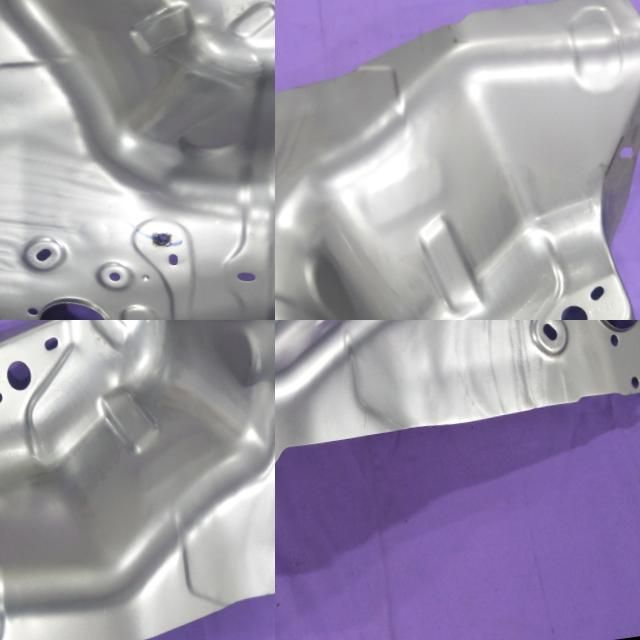Healthy: (275, 0, 640, 320), (0, 0, 275, 320), (0, 320, 275, 640)
